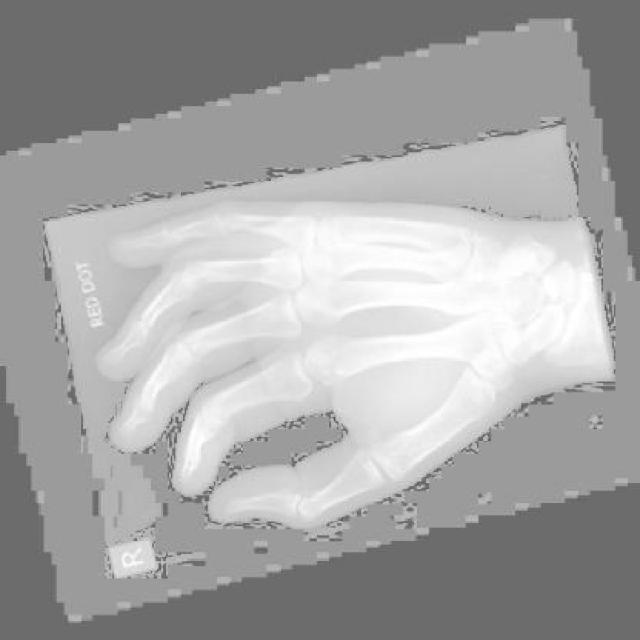Fracture: (263, 251, 309, 297)
